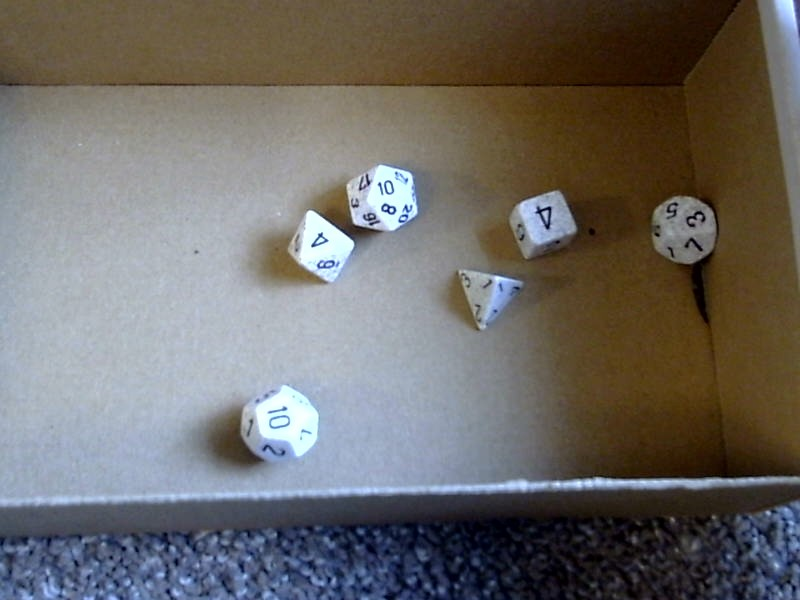d10 3: (644, 188, 722, 269)
d12 10: (233, 381, 324, 466)
d20 10: (343, 158, 424, 236)
d4 1: (446, 267, 523, 333)
d6 4: (505, 186, 578, 262)
d8 4: (282, 209, 353, 288)
